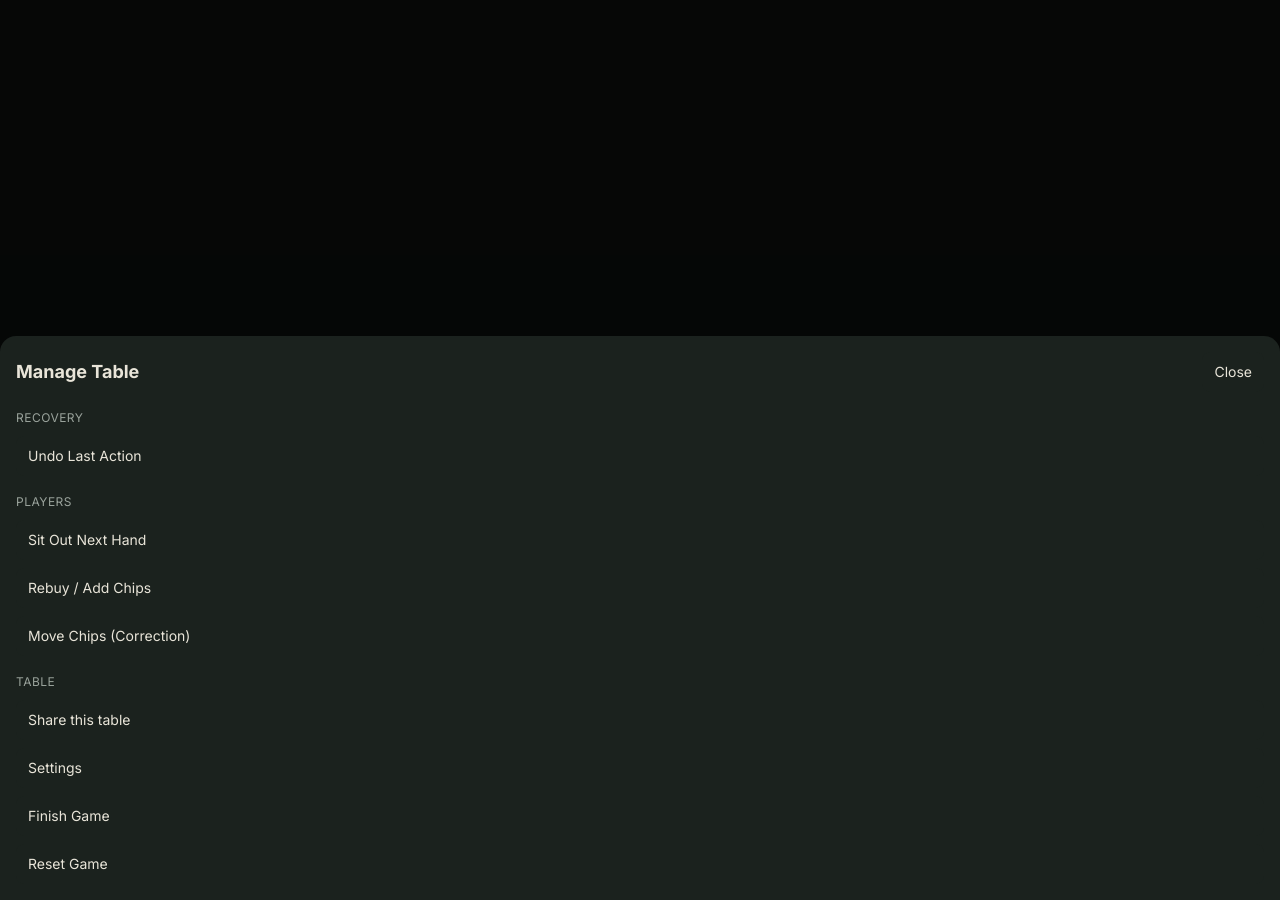
Test: rebuy › Half quick-pick selects half the default, rounded to the chip ratio
The width and height of the screenshot is (1280, 900).
Click the button "Rebuy / Add Chips" at x=90, y=588, box top-left (16, 568), bottom-right (1264, 608)
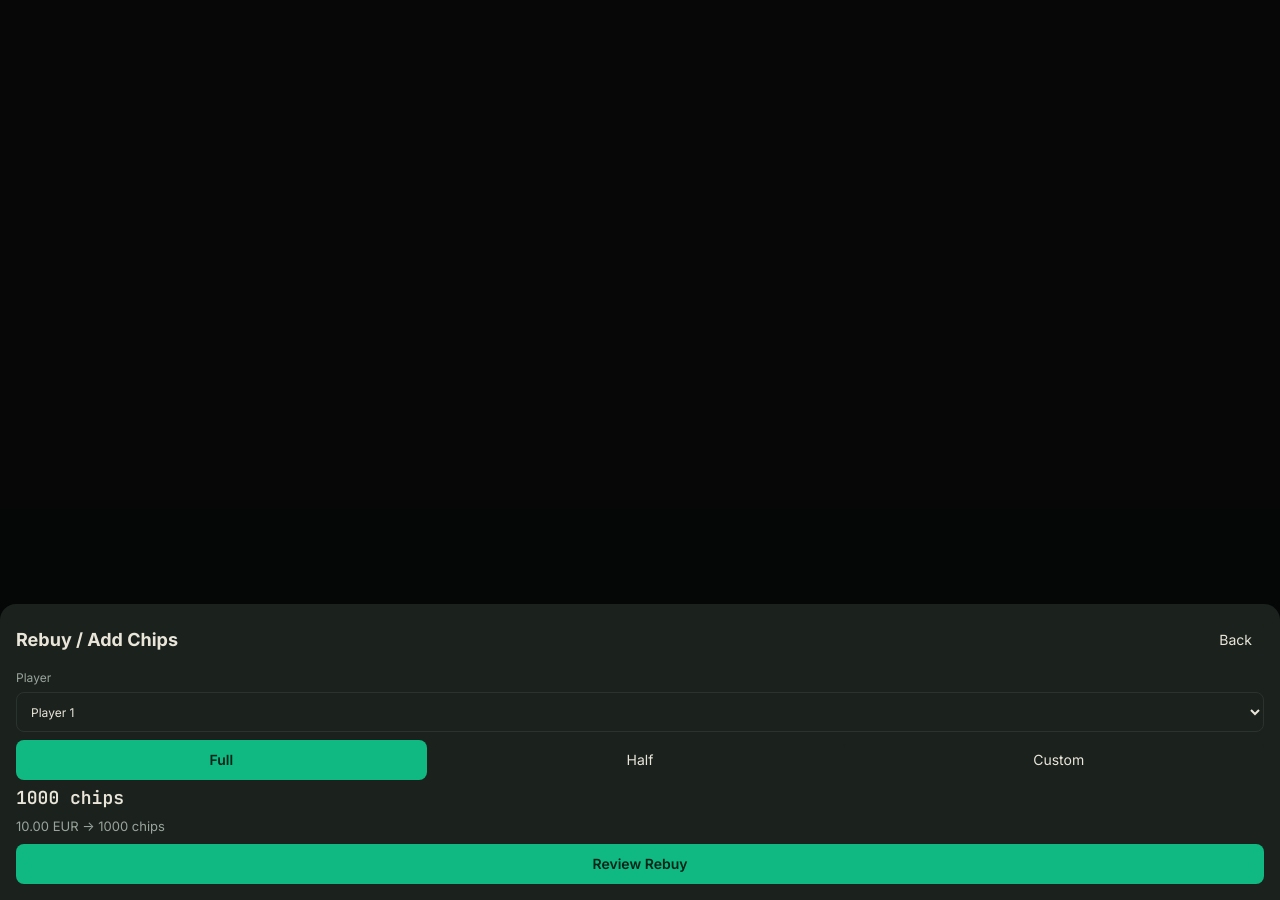
Click the button "Half" at x=640, y=760, box top-left (435, 740), bottom-right (845, 780)
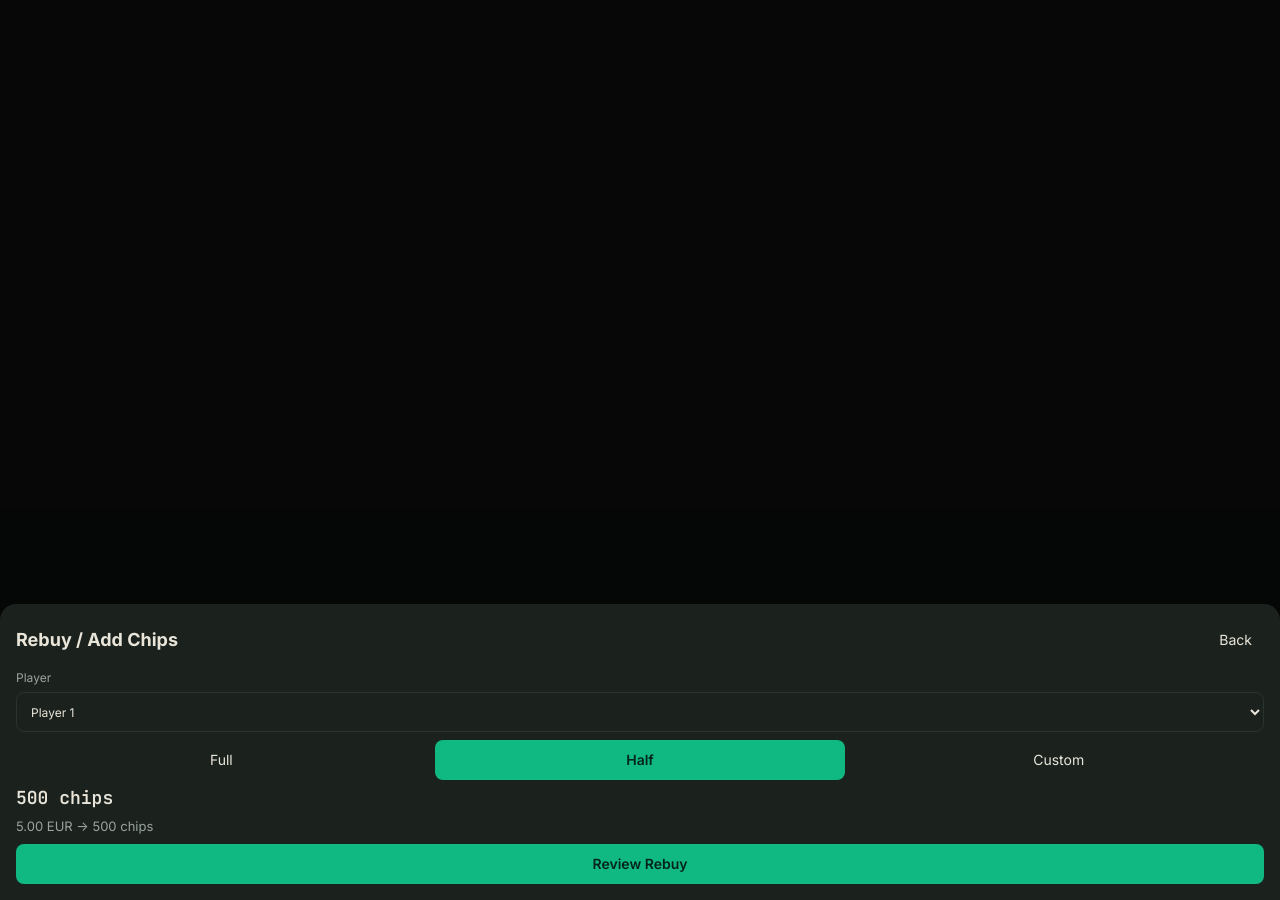
Check: the text "500 chips" is shown, box top-left (16, 786), bottom-right (113, 809)
Check: the text "5.00 EUR → 500 chips" is shown, box top-left (16, 818), bottom-right (153, 834)
